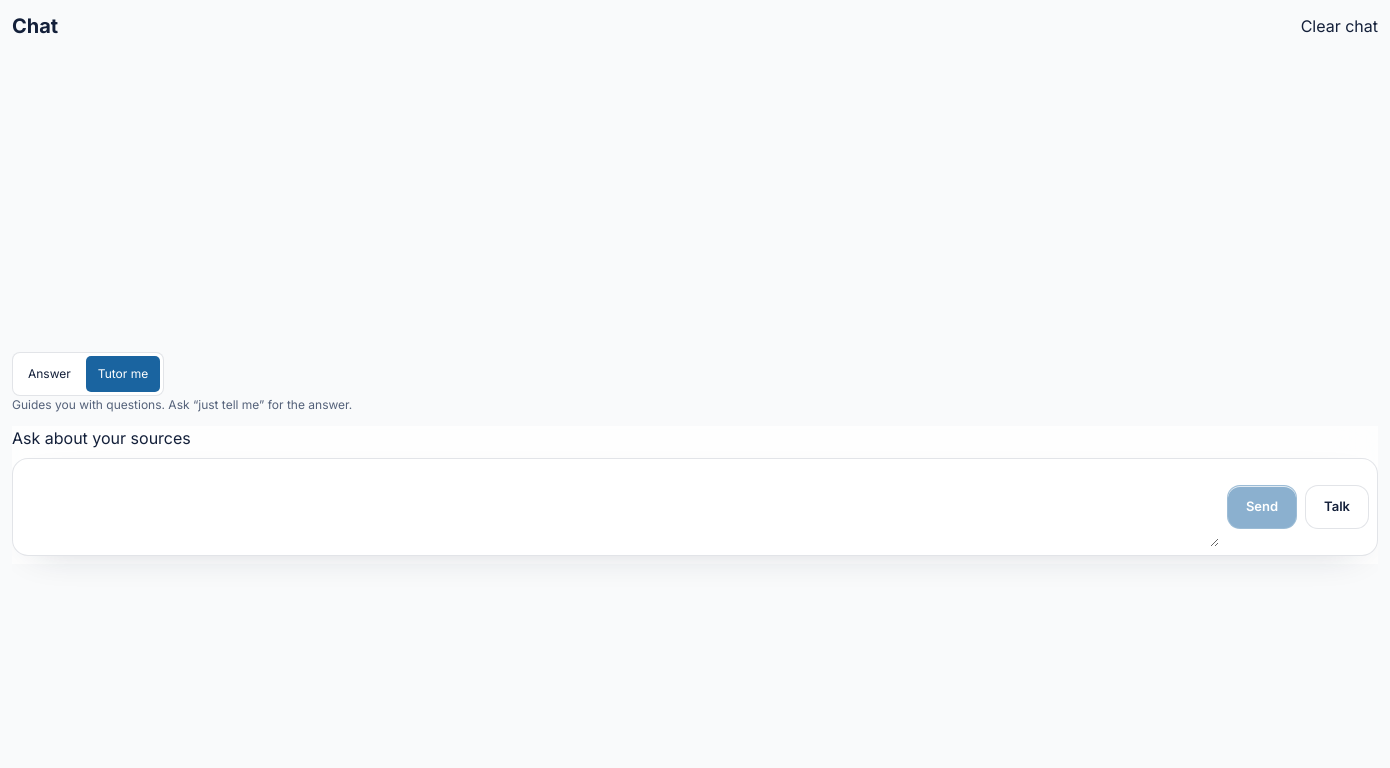
it: sends stop and releases the microphone on Stop talking
What coordinates should you click on to do the following:
click the button "Talk"
I would click on:
 (1337, 507)
Its box is [1305,485,1369,529].
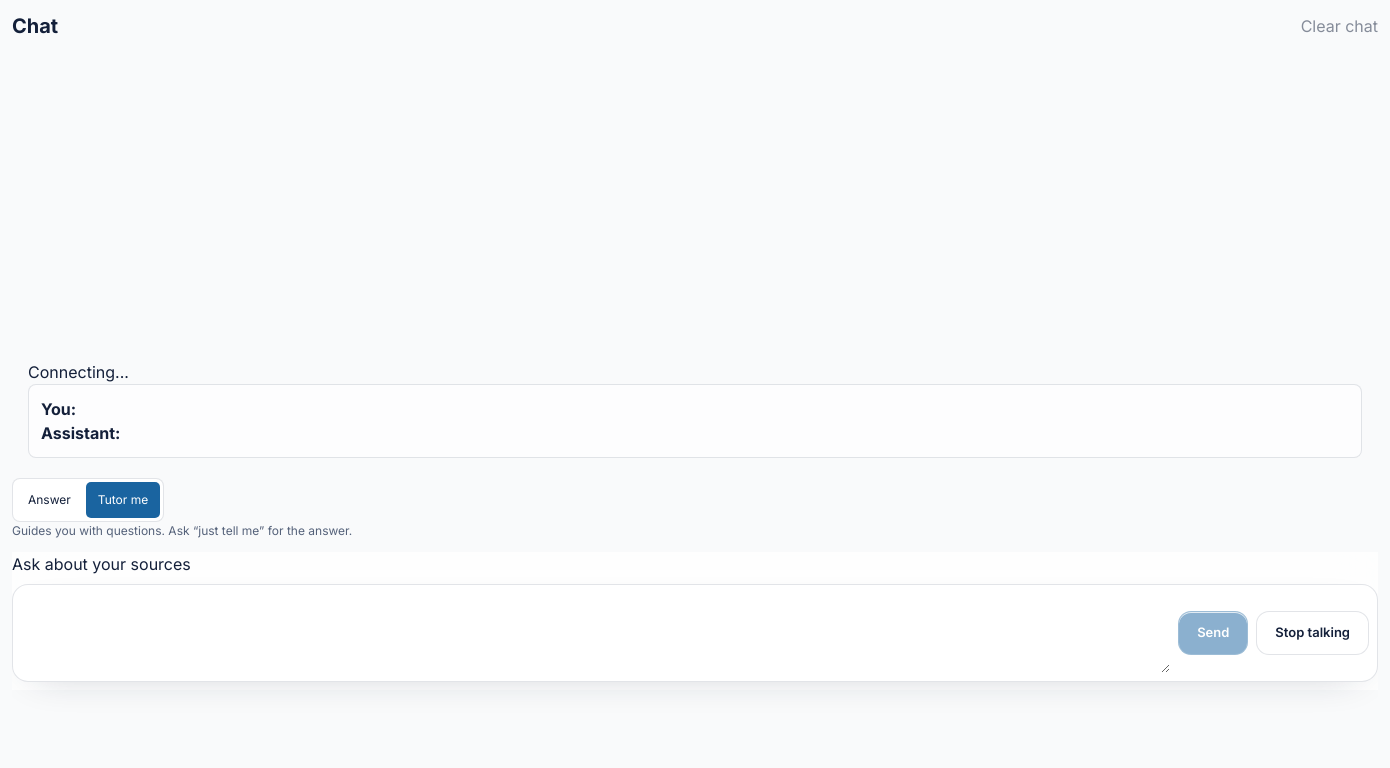
Now the message reads "Connecting...", box [28,362,129,382]
What coordinates should you click on to do the following:
click the button "Stop talking"
I would click on:
 (1313, 633)
Its box is [1256,611,1369,655].
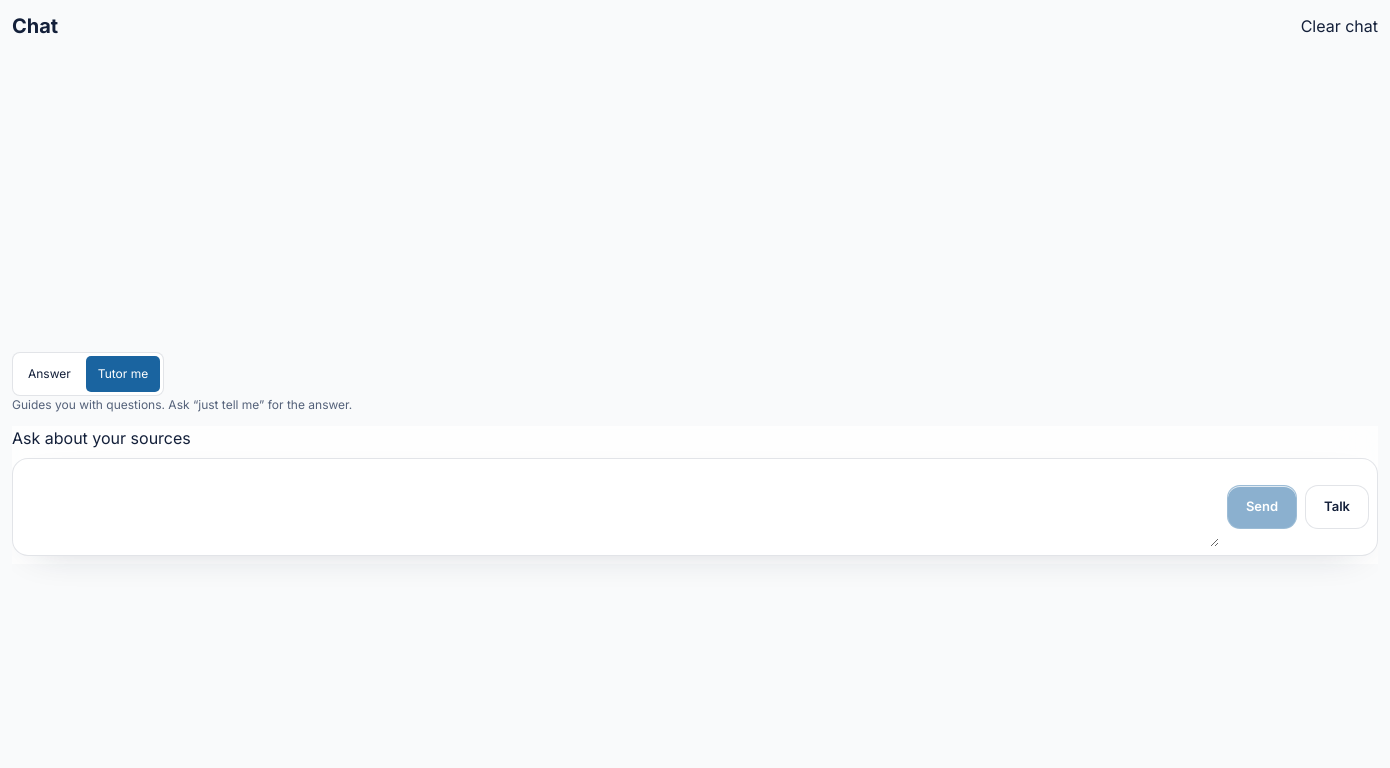
Now the text box is enabled, box [21,467,1219,547]
